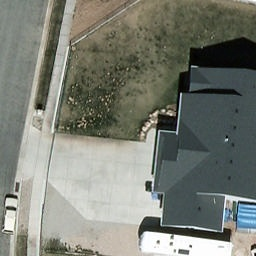car: (3, 197, 17, 236)
